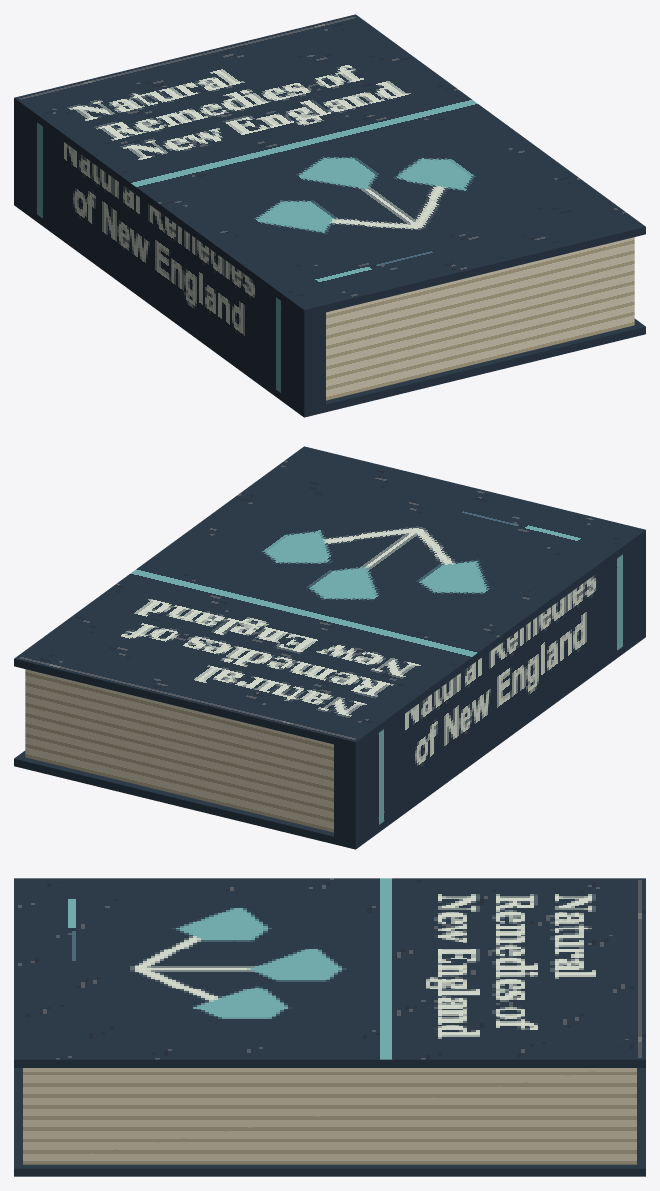
File: isherwood_herbal_remedies.glb
3 renders of one model, top to bottom at view 1: azimuth 30°, elevation 25°; view 2: azimuth 150°, elevation 25°; view 3: azimuth 270°, elevation 25°, orthographic. The views are drawn at different scales.
Visible parts, largest first — view 1: block_front cover, block_spine, block_page block, block_back cover; view 2: block_front cover, block_spine, block_page block, block_back cover; view 3: block_front cover, block_page block, block_back cover.
Boxes of the visible parts, box(x1,y1,x2,y2) form: block_front cover: box(14, 14, 645, 317); block_spine: box(14, 105, 325, 409); block_page block: box(326, 237, 634, 400); block_back cover: box(14, 198, 645, 417); block_front cover: box(14, 446, 645, 749); block_spine: box(334, 537, 645, 841); block_page block: box(25, 669, 333, 832); block_back cover: box(14, 630, 645, 849); block_front cover: box(14, 878, 645, 1067); block_page block: box(23, 1068, 636, 1164); block_back cover: box(14, 1068, 645, 1176).
Size of the model in its own units: 0.1414 by 0.0425 by 0.208.
Materials: 1 (1 with a texture image).
